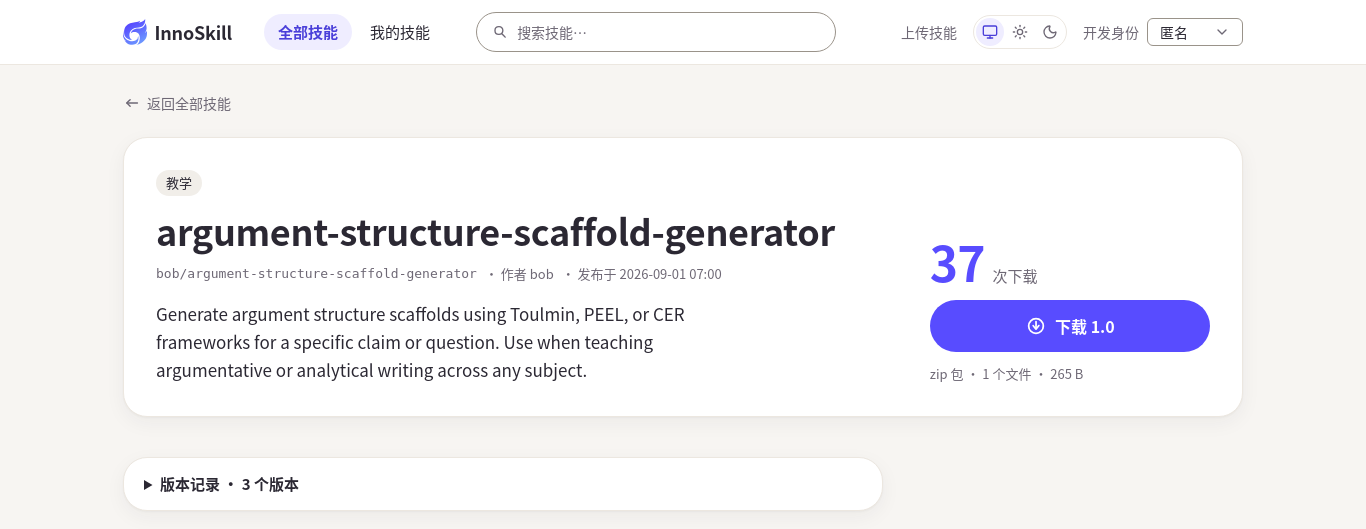
Test: 详情页 › 下载：按确切版本号取 zip，完成后刷新下载数
expect the text "37" is shown: met, box [930,237,984,285]
Click the button "下载 1.0": click(1070, 326) [930,300,1210,352]
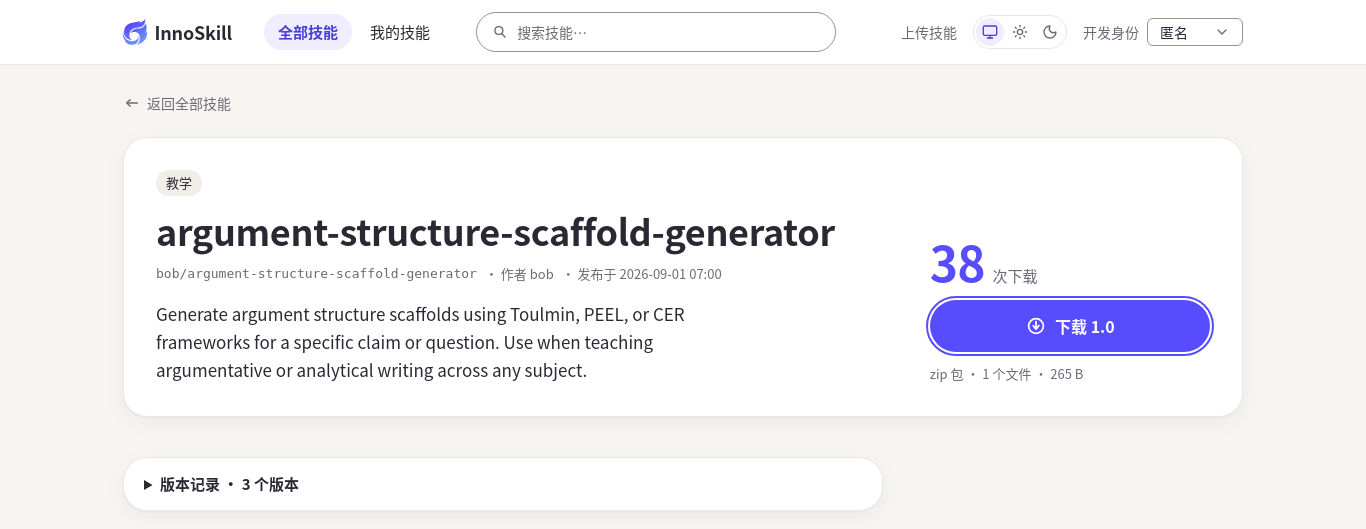
expect the text "38" is shown: met, box [930,237,984,285]
